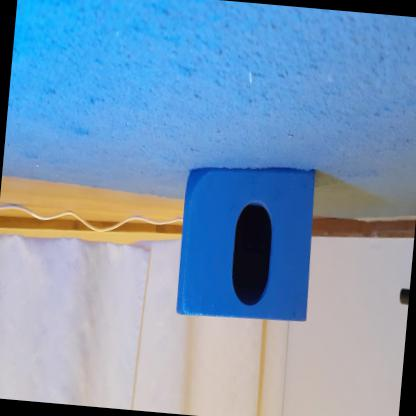CornerCasting: (172, 154, 320, 332)
